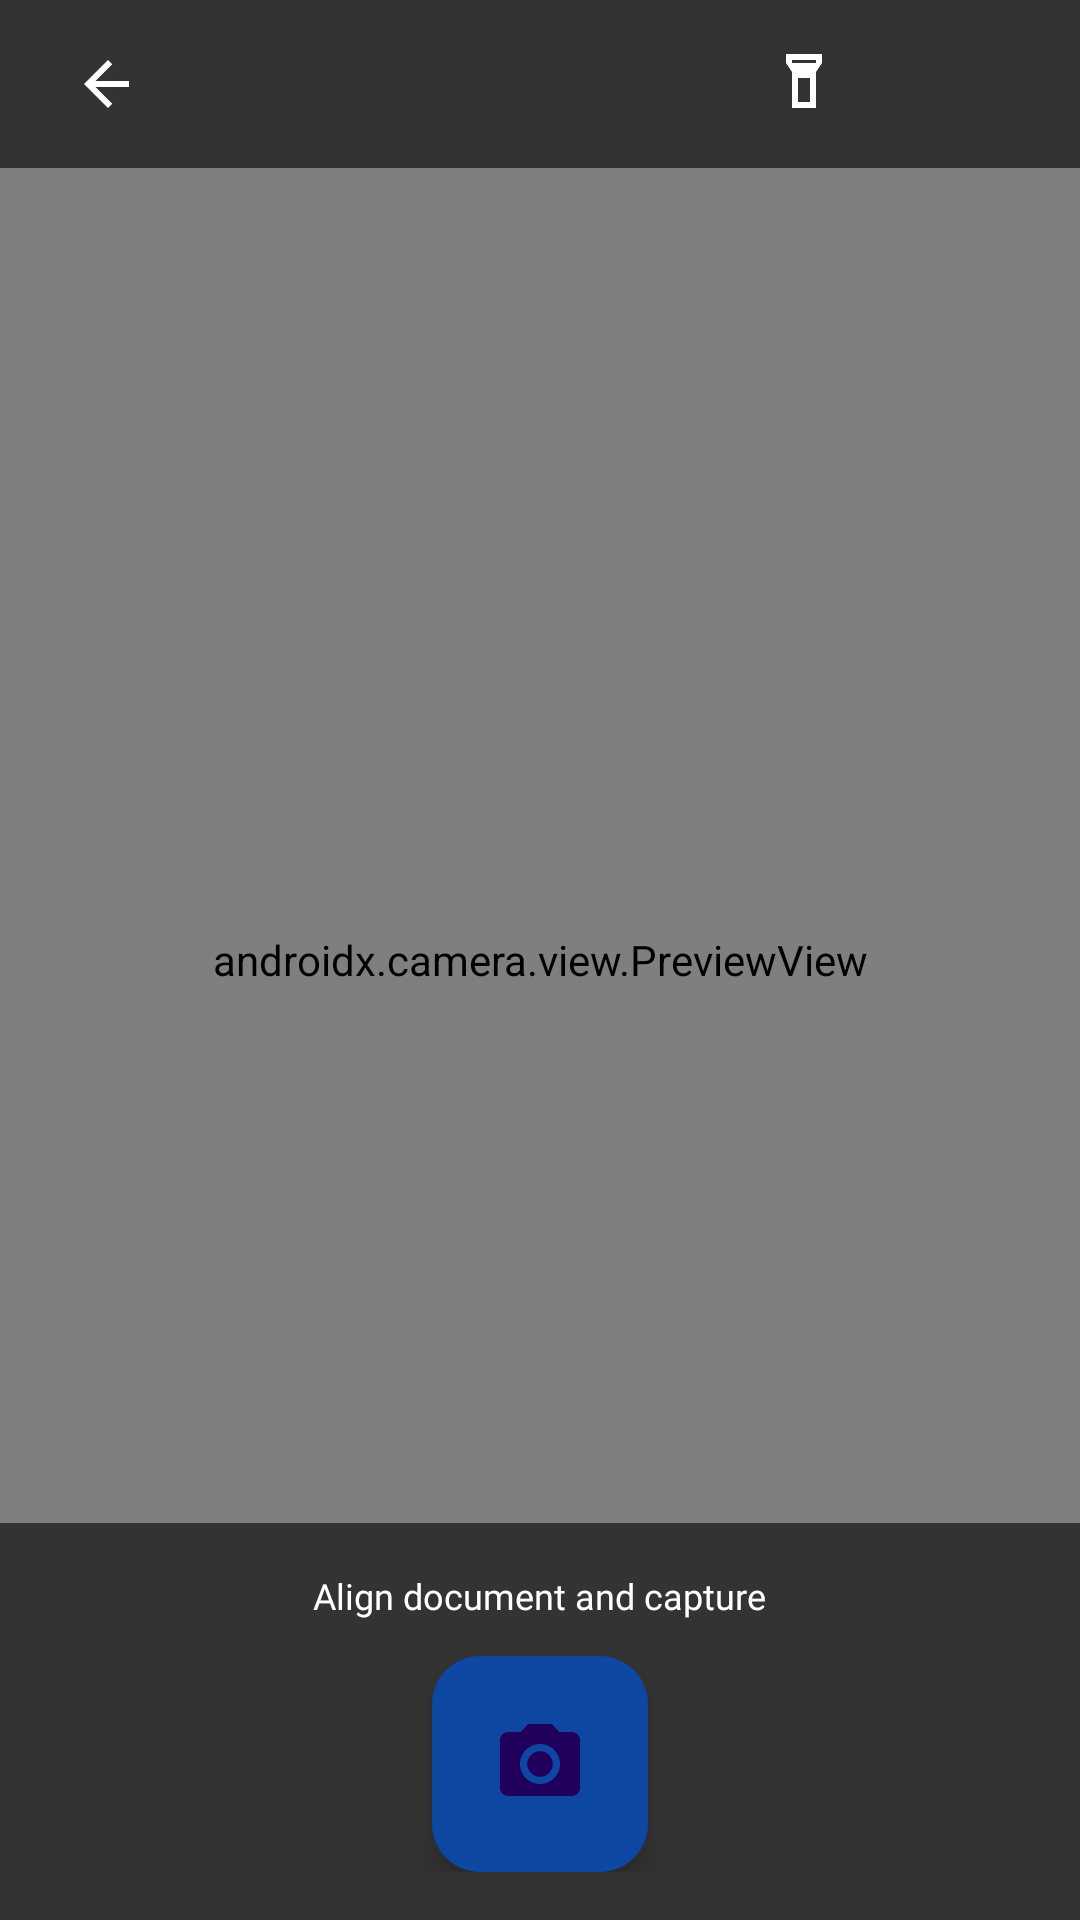

Icons on this 1080x1920 Android screen, each with its box as (x1, y1, x2, y2):
Back: (84, 60, 129, 108)
Toggle Flash: (786, 54, 822, 108)
